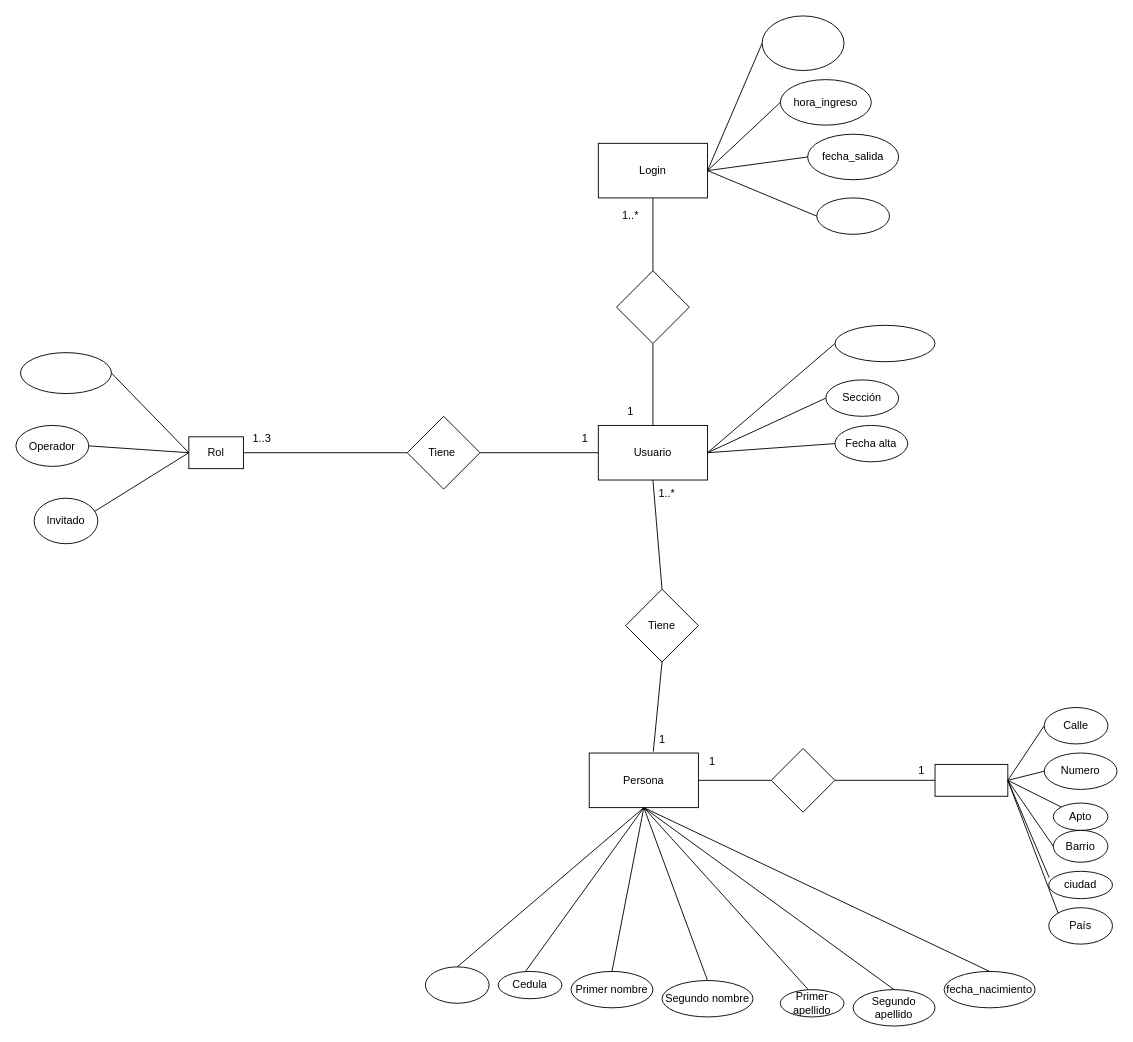
Some shapes in this 1133 by 1042 pixel diagram are drawn without their labels. The box of each missing label's shape, as (x1, y1, x2, y2) in pixels:
Administrador: (20, 352, 111, 394)
Dirección: (934, 763, 1008, 796)
Email: (425, 966, 489, 1003)
fecha_ingreso: (761, 15, 844, 71)
hora_salida: (816, 197, 890, 234)
Nombre_usuario: (834, 324, 935, 362)
Realiza: (616, 270, 689, 344)
Registra una: (770, 748, 835, 812)
